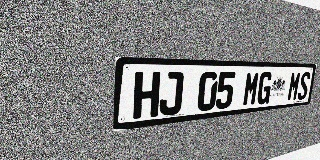0: (196, 72, 219, 112)
5: (215, 72, 236, 110)
G: (256, 72, 273, 105)
H: (133, 72, 161, 119)
J: (159, 72, 184, 116)
M: (242, 72, 260, 107), (287, 72, 301, 101)
S: (297, 72, 311, 100)
